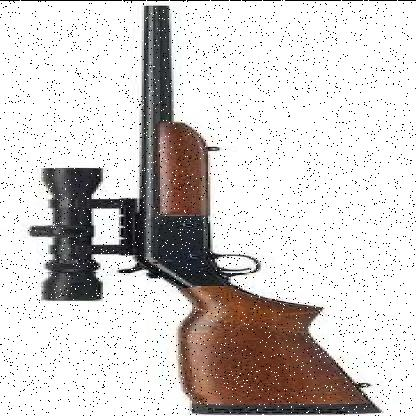rifle: (18, 5, 373, 416)
